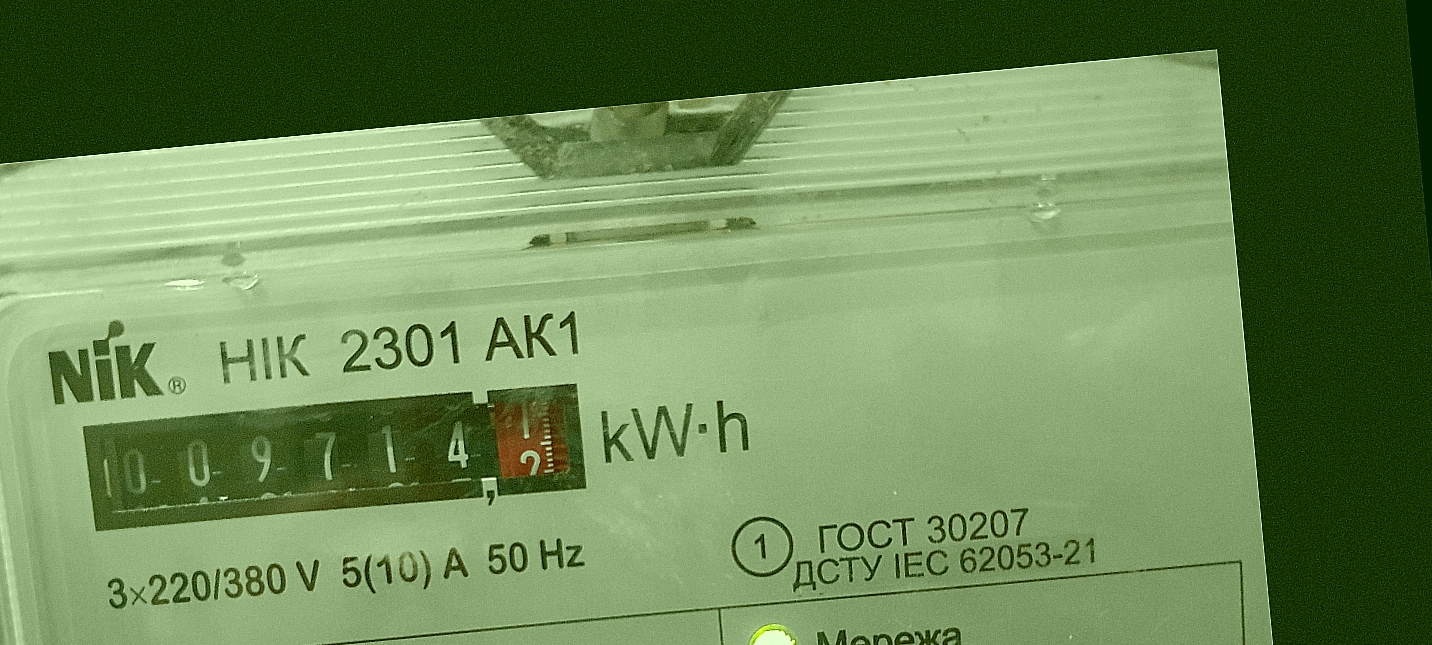0: (117, 442, 151, 498), (181, 433, 213, 489)
1: (375, 418, 402, 475), (514, 397, 533, 441)
2: (516, 444, 542, 477)
4: (440, 415, 473, 472)
7: (311, 427, 341, 483)
9: (244, 430, 277, 484)
screen: (66, 362, 604, 553)
